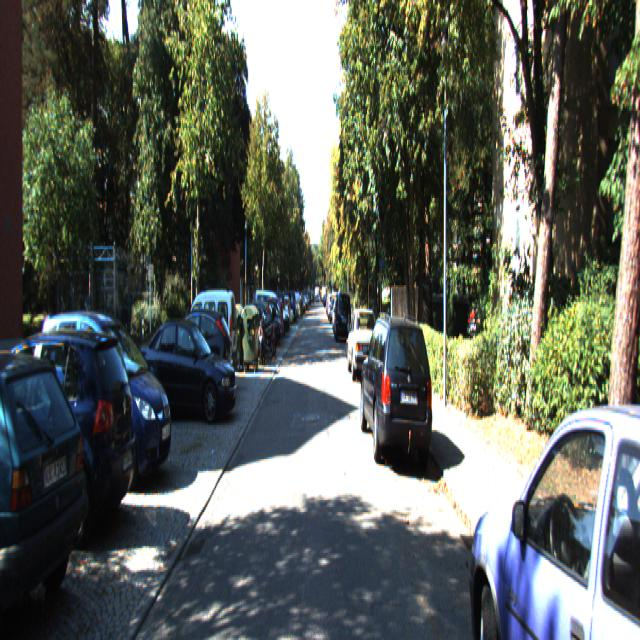Car: (463, 348, 640, 638), (0, 324, 140, 550), (0, 333, 90, 638), (30, 305, 174, 495), (359, 311, 434, 469), (137, 317, 239, 429), (156, 307, 234, 410), (176, 290, 238, 389), (346, 307, 382, 384), (333, 292, 352, 345)
